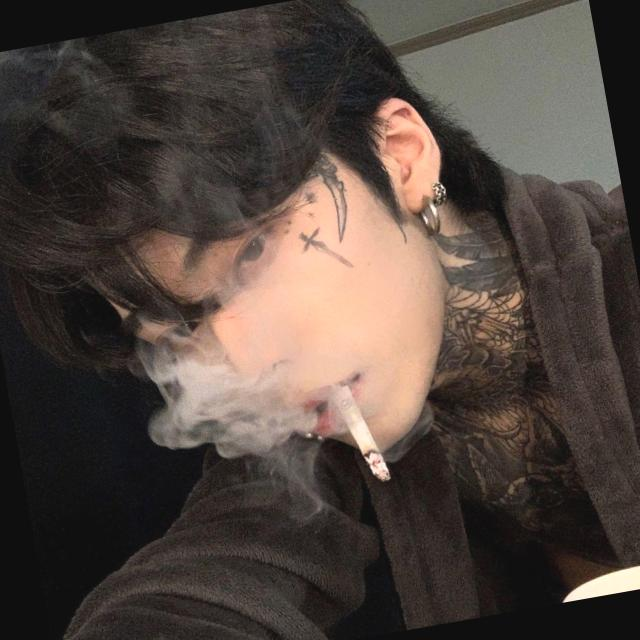cigarette: (330, 359, 392, 501)
